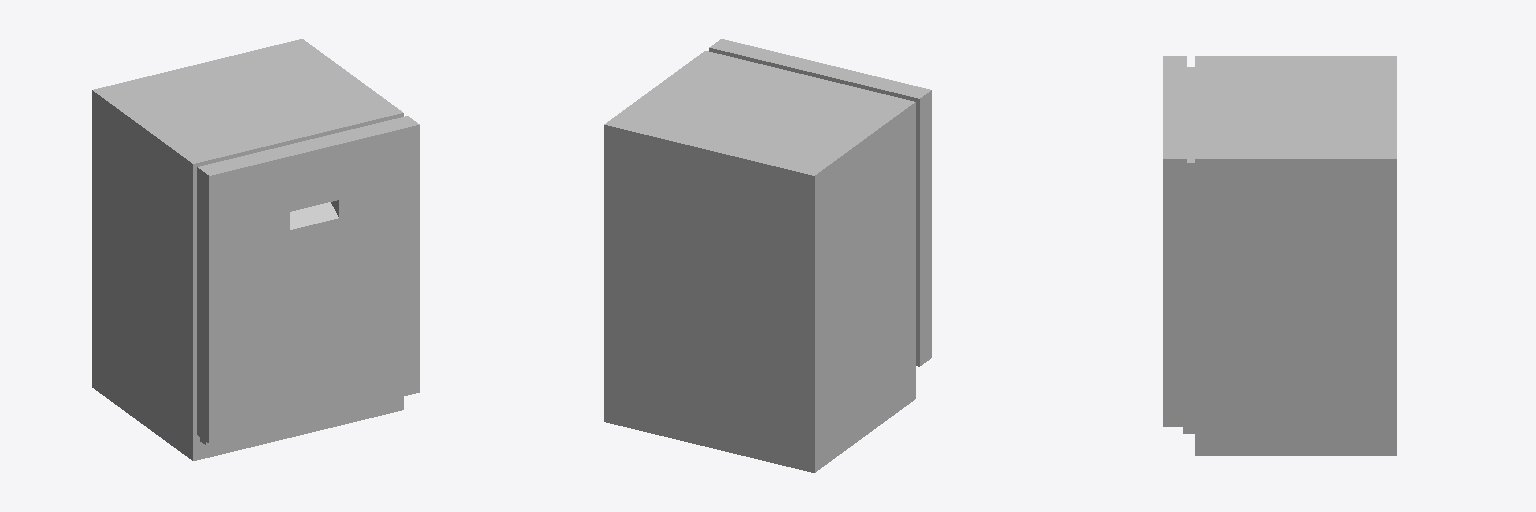
Rendered from DishWasher.obj.
The picture shows the model from 3 angles: view 1: azimuth 30°, elevation 25°; view 2: azimuth 150°, elevation 25°; view 3: azimuth 270°, elevation 25°; orthographic projection.
Parts seen in each view (by area): view 1: object_4, object_3, object_5; view 2: object_3, object_4; view 3: object_3, object_4, object_2.
Part boxes in pixels (bbox=[...]): object_4: bbox=[197, 116, 419, 443]; object_3: bbox=[92, 39, 403, 460]; object_5: bbox=[290, 159, 338, 199]; object_3: bbox=[604, 51, 915, 472]; object_4: bbox=[709, 39, 931, 366]; object_3: bbox=[1195, 56, 1396, 455]; object_4: bbox=[1163, 56, 1186, 426]; object_2: bbox=[1187, 67, 1194, 419].
Bounding box in the file's own units: 60 × 81 × 58.